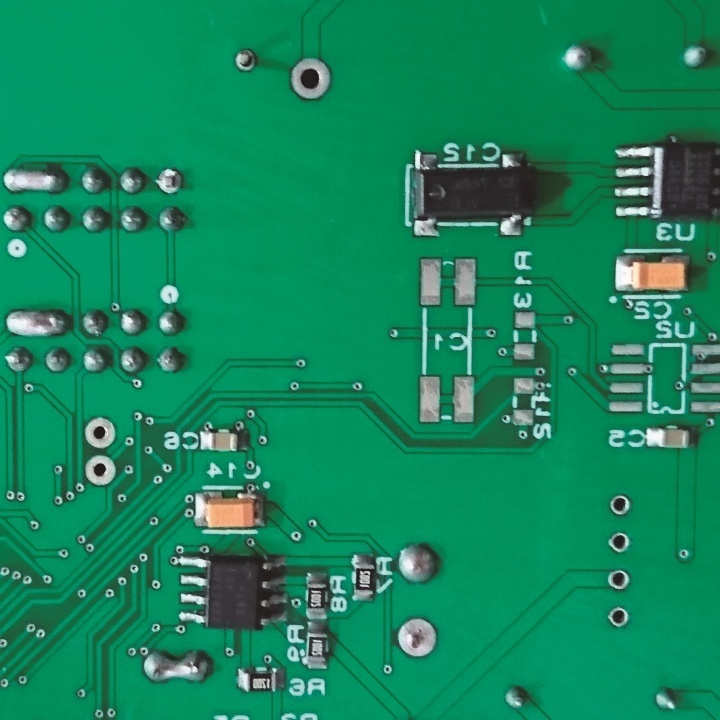F: (289, 56, 335, 103), (393, 615, 439, 659), (82, 452, 118, 492), (84, 415, 118, 449), (228, 48, 260, 78), (153, 163, 182, 196), (607, 600, 633, 632), (606, 565, 633, 593), (607, 491, 632, 518), (608, 529, 633, 555)
P: (139, 646, 213, 688), (3, 160, 71, 195), (1, 307, 73, 340)
